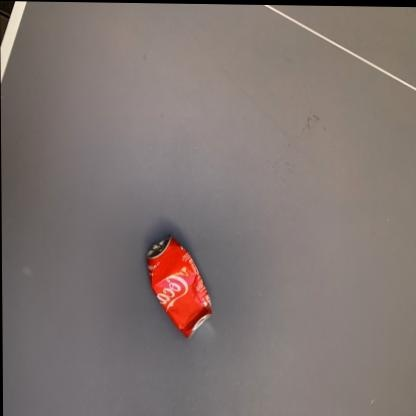trash: (146, 236, 211, 336)
